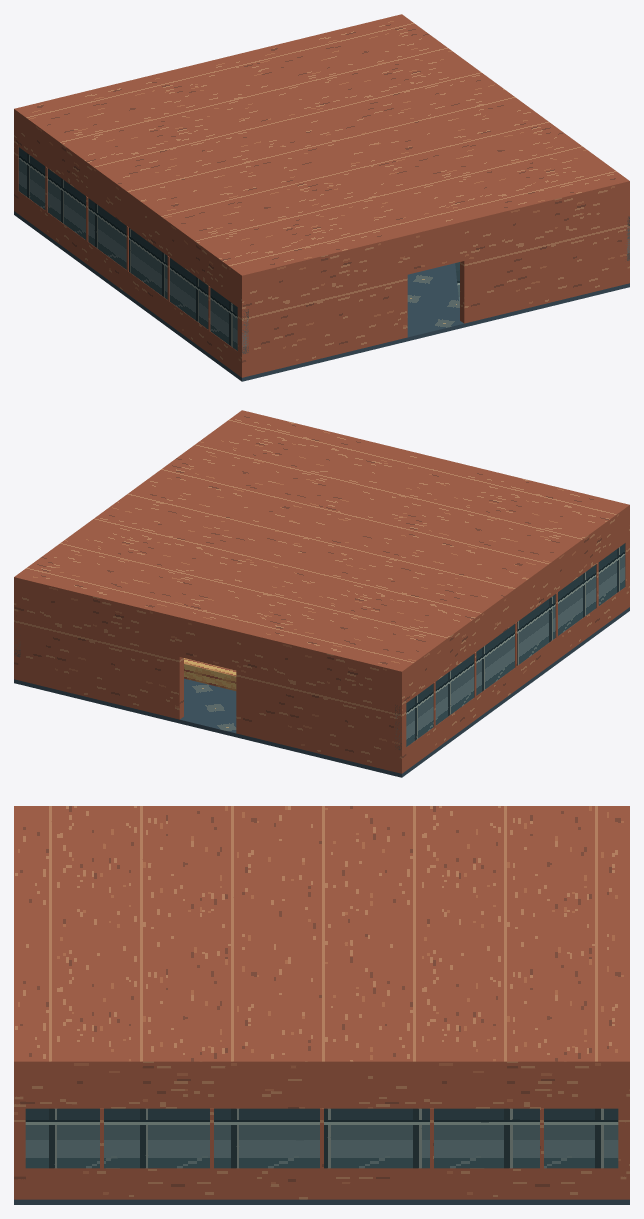
Rendered from ss-smoking-room.glb.
3 renders of one model, top to bottom at view 1: azimuth 30°, elevation 25°; view 2: azimuth 150°, elevation 25°; view 3: azimuth 270°, elevation 25°, orthographic. The views are drawn at different scales.
Parts seen in each view (by area): view 1: shell.009, floor_ss-smoking-room; view 2: shell.009, floor_ss-smoking-room, fittings.009; view 3: shell.009, floor_ss-smoking-room.
Boxes of the visible parts, box(x1,y1,x2,y2) form: shell.009: box(14, 14, 629, 377); floor_ss-smoking-room: box(14, 211, 629, 381); shell.009: box(14, 410, 629, 773); floor_ss-smoking-room: box(14, 607, 629, 777); fittings.009: box(184, 658, 236, 690); shell.009: box(14, 806, 629, 1199); floor_ss-smoking-room: box(14, 1199, 629, 1204).
Bounding box in the file's own units: 16.54 × 4.31 × 16.8.
8 materials, 8 textured.
